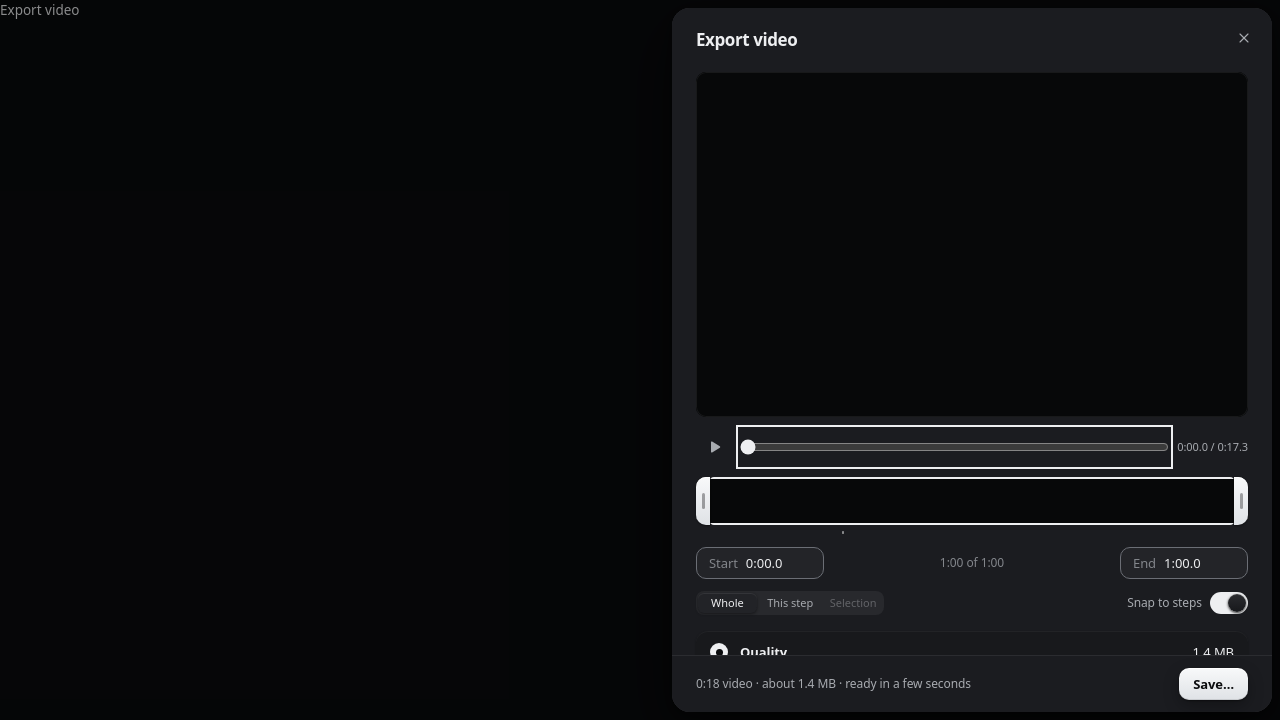
Trimming the video › previews the handle that is held, even before it moves
Press the mouse on the slider named "End" at (1241, 501), box [1234,477,1248,525]
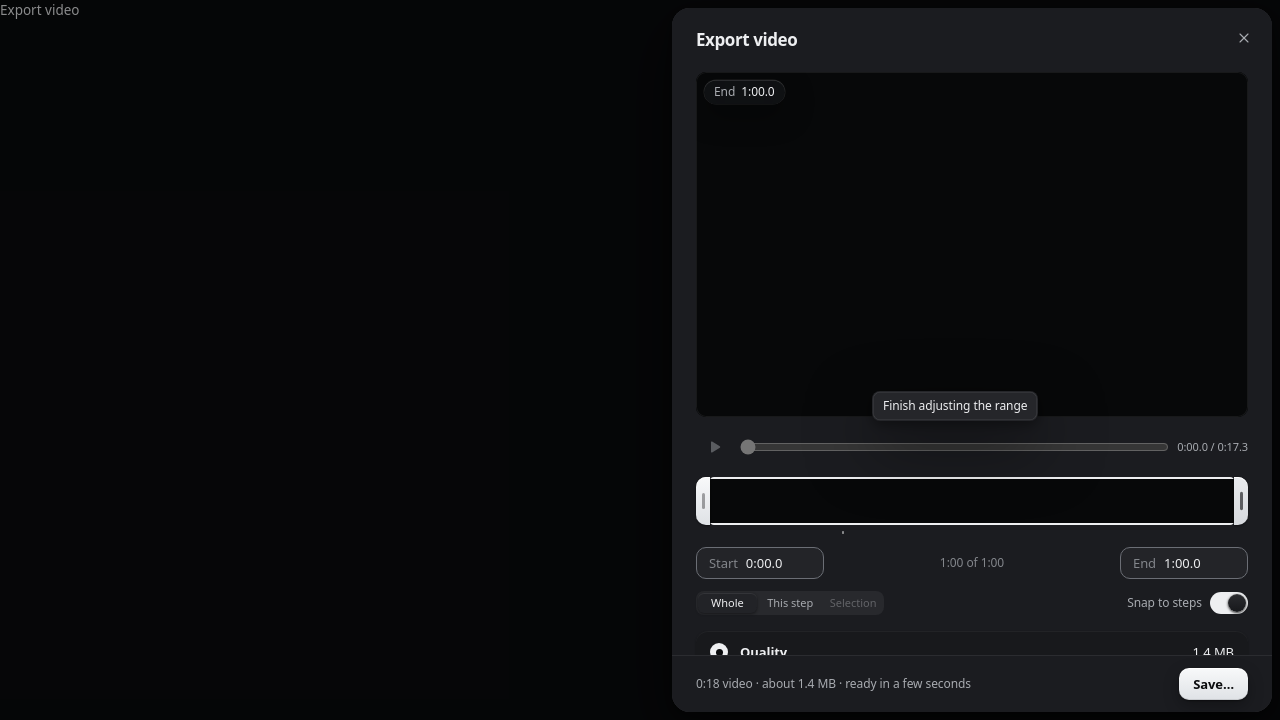
Check: the element with class "export-preview-time" reads "End 1:00.0", box [704,80,785,104]
